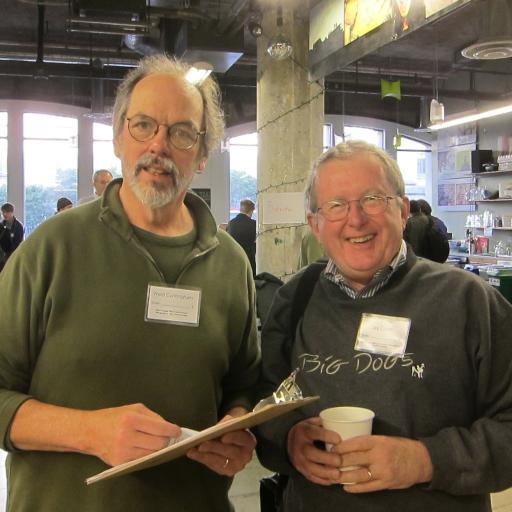Person: (8, 33, 286, 508), (240, 74, 508, 508)
no_gloves: (40, 388, 187, 471), (322, 413, 442, 499), (174, 401, 282, 483), (280, 392, 354, 486)
no_goggle: (120, 94, 212, 158), (303, 187, 403, 227)
no_helmet: (87, 49, 237, 224), (292, 130, 442, 282)
none: (7, 202, 255, 433), (261, 255, 506, 485)
